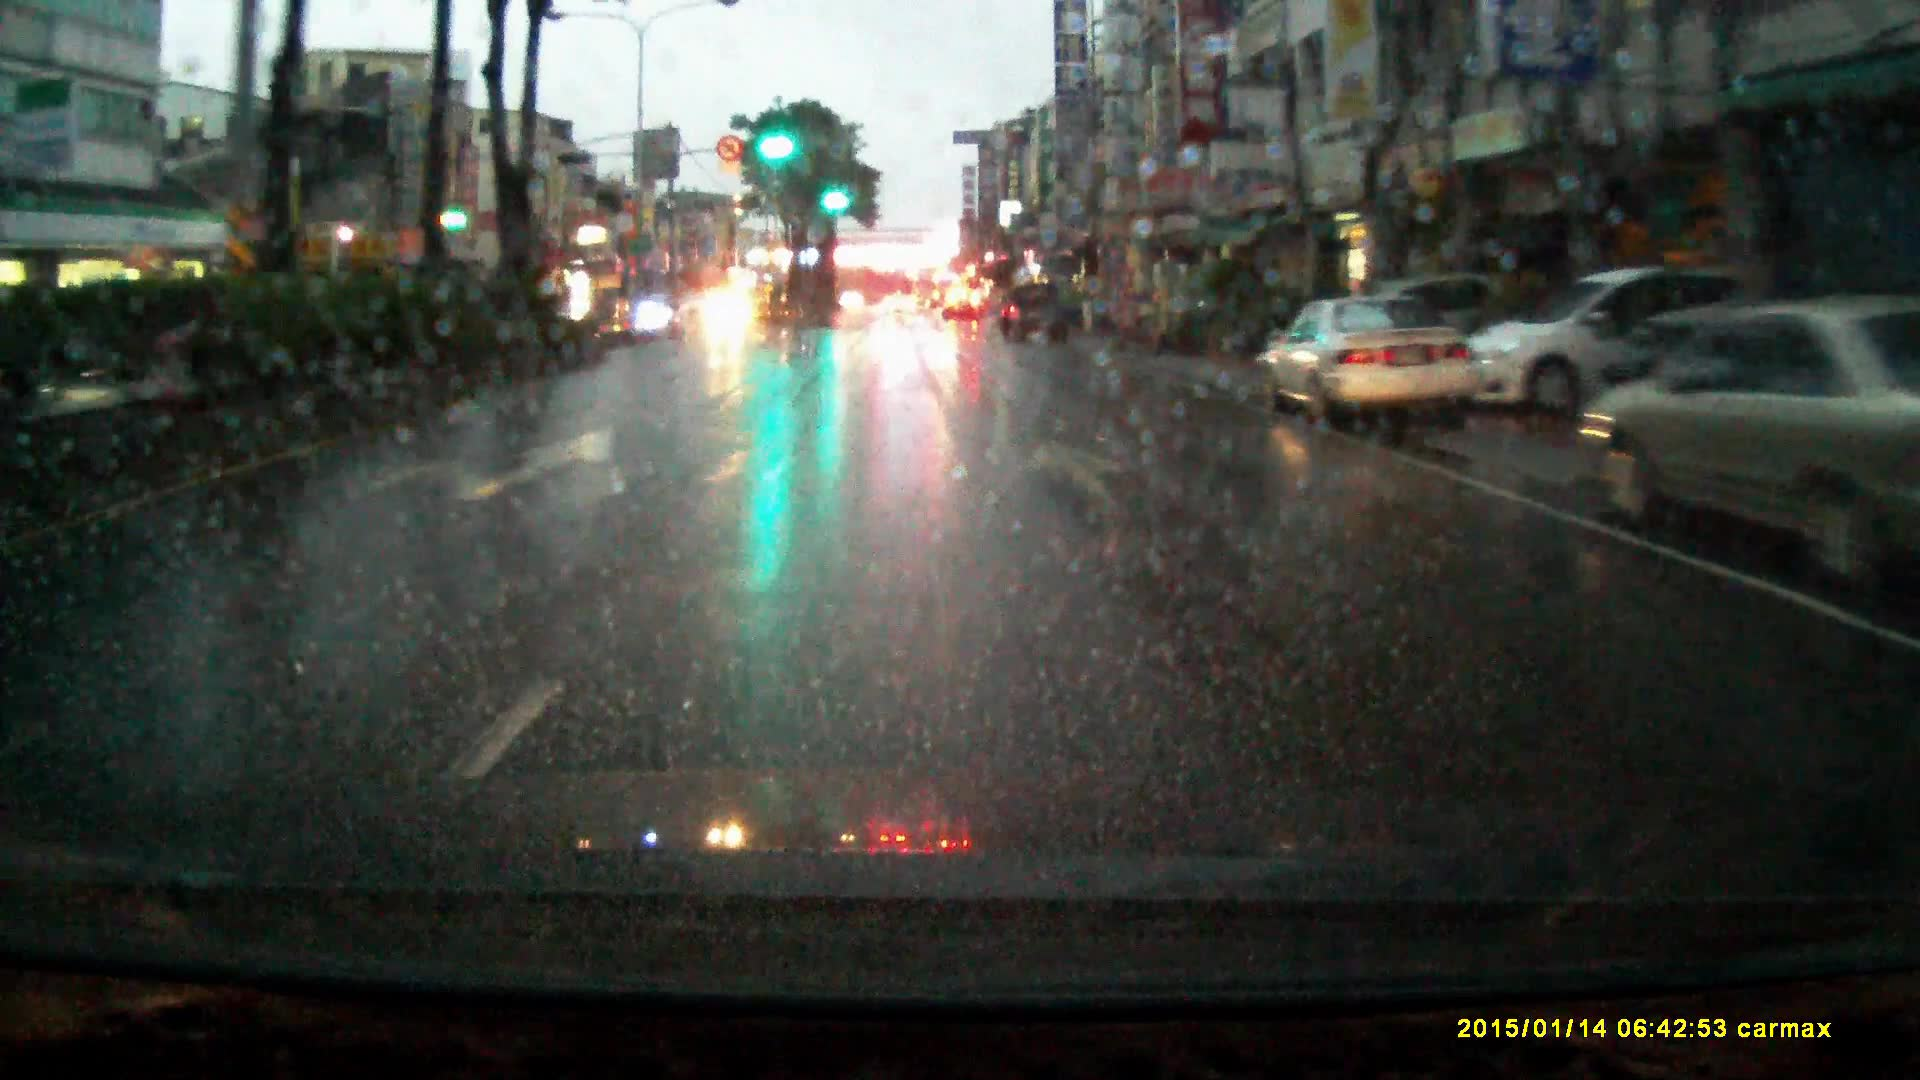vehicle: (1580, 305, 1915, 563), (1466, 266, 1764, 419), (1251, 295, 1480, 436), (1004, 286, 1072, 348), (694, 291, 758, 348), (624, 301, 670, 334), (914, 277, 942, 320), (944, 294, 978, 324), (884, 303, 916, 323)
